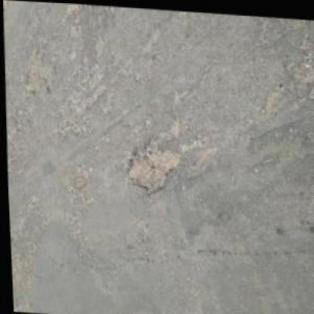Hueco: (124, 130, 181, 192), (21, 52, 57, 94)
